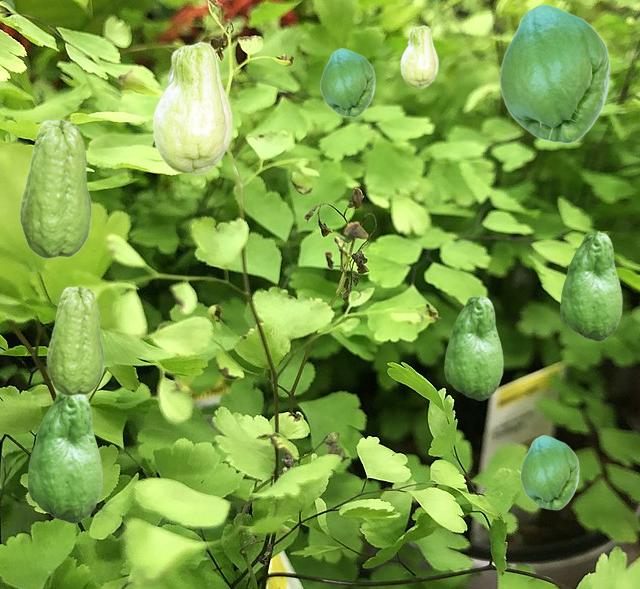sayote: (499, 4, 609, 143), (152, 41, 231, 174), (19, 119, 91, 258), (27, 393, 101, 522), (560, 231, 621, 340), (46, 286, 103, 395), (444, 295, 502, 399), (520, 435, 578, 509), (320, 48, 374, 116), (400, 25, 437, 87)
